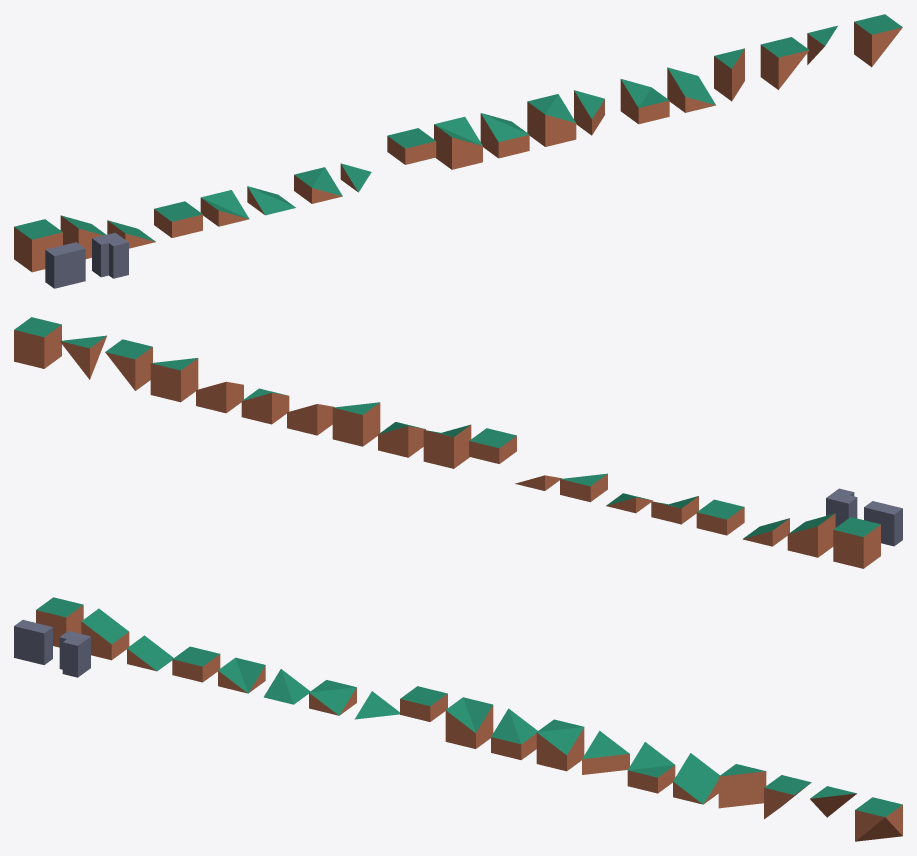
Rendered from Forest Mesh Library.glb.
3 views of the same model, one above another, from view 1: azimuth 30°, elevation 25°; view 2: azimuth 150°, elevation 25°; view 3: azimuth 330°, elevation 25° (orthographic). The views are drawn at different scales.
Visible parts, largest first — view 1: SlopeDiagonalLargeTop, SlopeInsideFoldTop, Block, Overhang, OverhangCornerInside, SlopeDiagonalSmallTopFilled, SlopeOutsideFoldTop, Wall, WallCorner, SlopeDiagonalFull, SlabTop, SlabBottom (+9 smaller); view 2: Block, OverhangCornerInside, SlopeDiagonalLargeTop, DiagonalEdge, SlopeInsideFoldTop, Overhang, SlopeTop, SlabBottom, SlopeDiagonalSmallTopFilled, SlabTop, SlopeOutsideFoldTop, Wall (+8 smaller); view 3: SlopeInsideFoldTop, SlopeDiagonalLargeTop, OverhangCornerInside, DiagonalEdge, SlopeDiagonalSmallTopFilled, SlopeOutsideFoldTop, SlopeDiagonalFull, SlopeTop, Wall, Block, SlopeDiagonalSmallTop, SlabBottom (+9 smaller).
Part boxes in pixels (x1,y1,x2,y2): SlopeDiagonalLargeTop: (527, 94, 576, 146); SlopeInsideFoldTop: (434, 116, 482, 169); Block: (14, 219, 62, 272); Overhang: (760, 37, 809, 89); OverhangCornerInside: (854, 14, 902, 67); SlopeDiagonalSmallTopFilled: (620, 79, 669, 124); SlopeOutsideFoldTop: (480, 113, 529, 158); Wall: (45, 242, 85, 288); WallCorner: (92, 232, 128, 278); SlopeDiagonalFull: (667, 67, 715, 112); SlabTop: (387, 128, 436, 164); SlabBottom: (154, 201, 202, 237); Block: (833, 517, 880, 568); OverhangCornerInside: (14, 317, 61, 368); SlopeDiagonalLargeTop: (332, 402, 380, 446); DiagonalEdge: (150, 358, 198, 402); SlopeInsideFoldTop: (423, 424, 471, 468); Overhang: (105, 339, 152, 390); SlopeTop: (787, 513, 835, 557); SlabBottom: (696, 499, 744, 535); SlopeDiagonalSmallTopFilled: (241, 388, 289, 424); SlabTop: (469, 428, 516, 463); SlopeOutsideFoldTop: (378, 422, 425, 457); Wall: (864, 501, 902, 546); SlopeInsideFoldTop: (445, 697, 493, 748); SlopeDiagonalLargeTop: (536, 719, 584, 771); OverhangCornerInside: (855, 797, 902, 841); DiagonalEdge: (718, 764, 766, 808); SlopeDiagonalSmallTopFilled: (627, 742, 675, 793); SlopeOutsideFoldTop: (491, 708, 537, 760); SlopeDiagonalFull: (673, 753, 719, 804); SlopeTop: (81, 608, 129, 660); Wall: (14, 620, 52, 664); Block: (36, 597, 83, 647); SlopeDiagonalSmallTop: (582, 730, 629, 774); SlabBottom: (172, 646, 220, 682).
Size of what is drawn, in the model's own units: 56 by 2 by 5.
